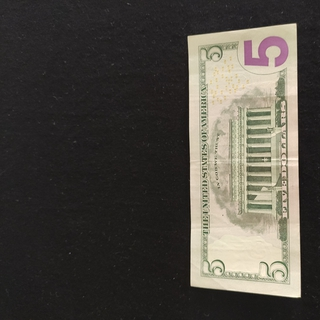5USDBack: (187, 23, 302, 298)
